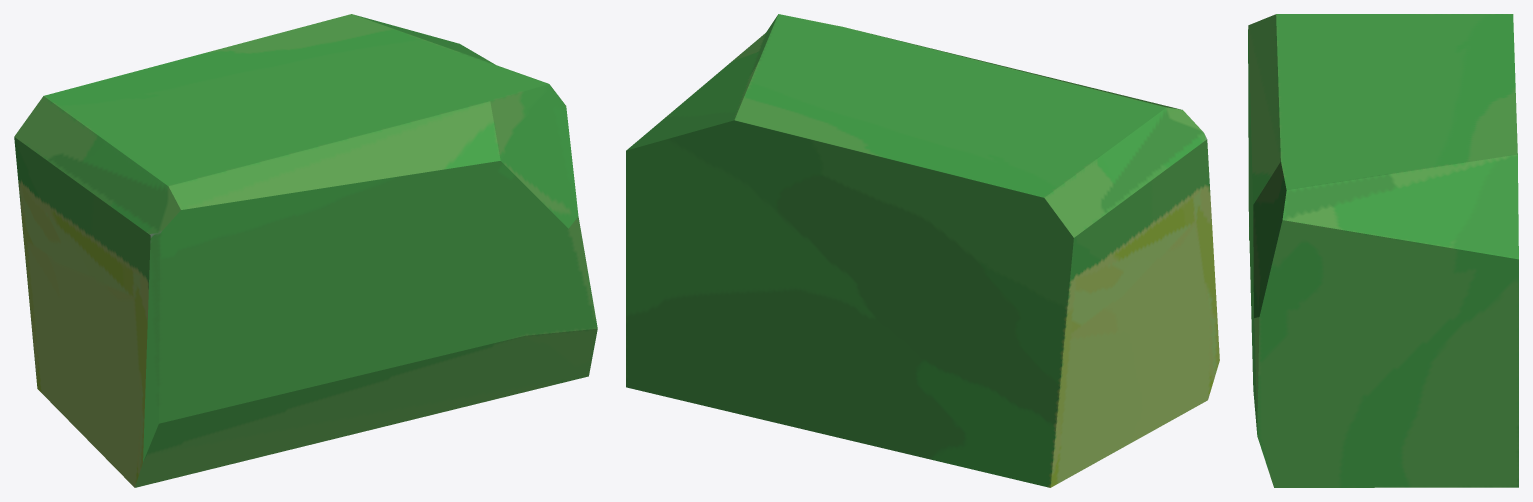
File: rack02.fbx
3 views of the same model, side by side, from view 1: azimuth 30°, elevation 25°; view 2: azimuth 150°, elevation 25°; view 3: azimuth 270°, elevation 25° (orthographic). The views are drawn at different scales.
Visible parts, largest first — view 1: ROCK02; view 2: ROCK02; view 3: ROCK02.
Boxes of the visible parts, bbox=[...] form: ROCK02: bbox=[14, 14, 597, 487]; ROCK02: bbox=[626, 14, 1219, 487]; ROCK02: bbox=[1248, 14, 1518, 487].
Bounding box in the file's own units: 254 × 156 × 136.
Materials: 1 (1 with a texture image).
